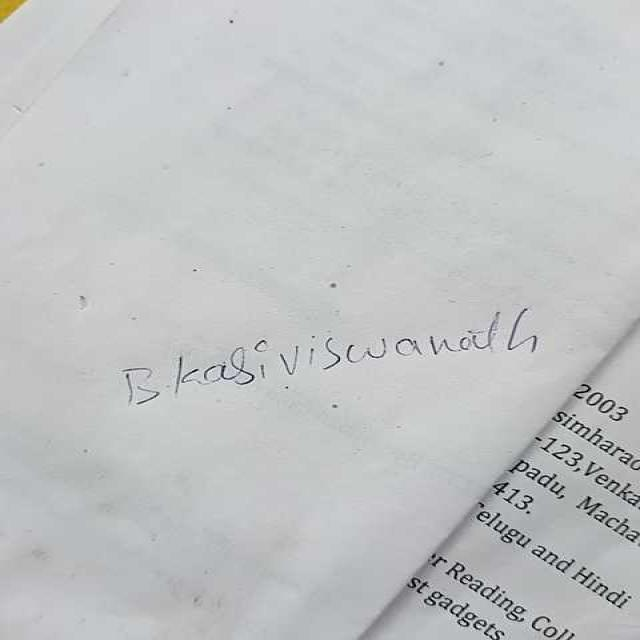signature: (100, 305, 584, 411)
